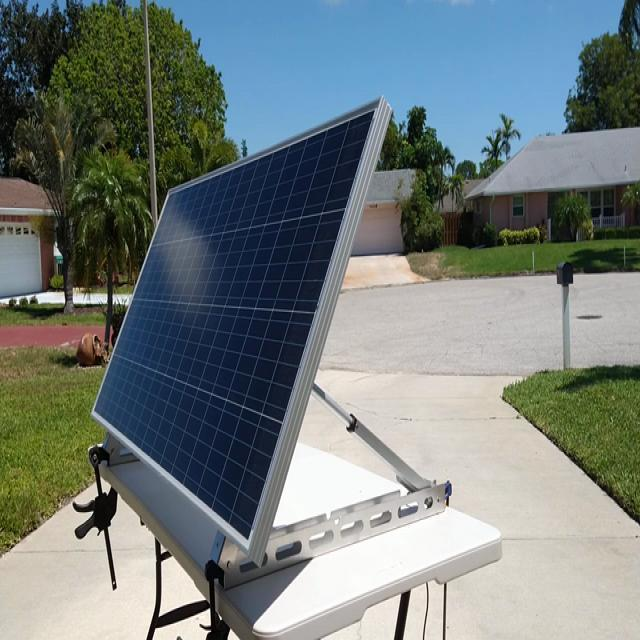Normal Solar Panel: (90, 98, 383, 552)
